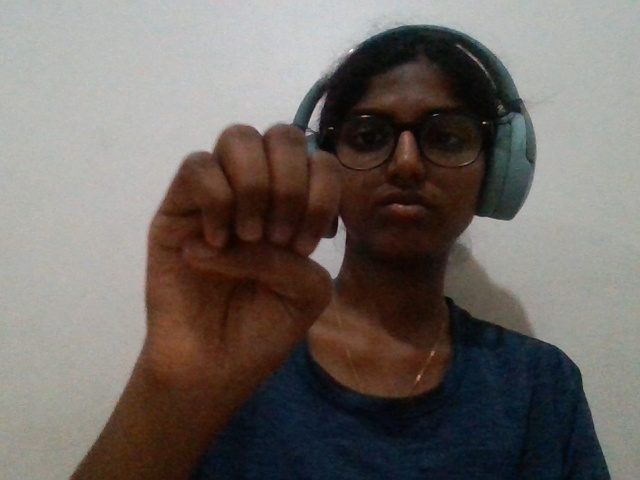E: (112, 101, 378, 453)
